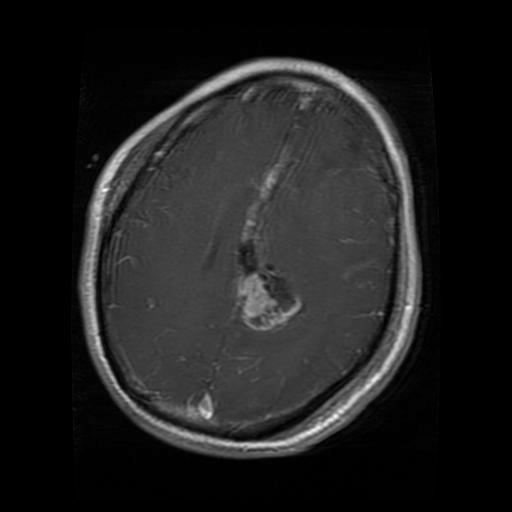Tumour-Glioma: (239, 266, 303, 333)
